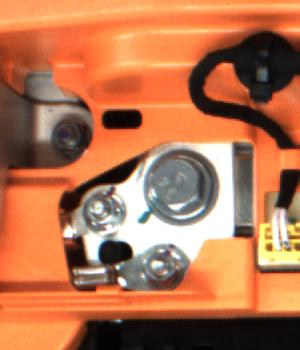nut_b: (139, 143, 217, 227)
